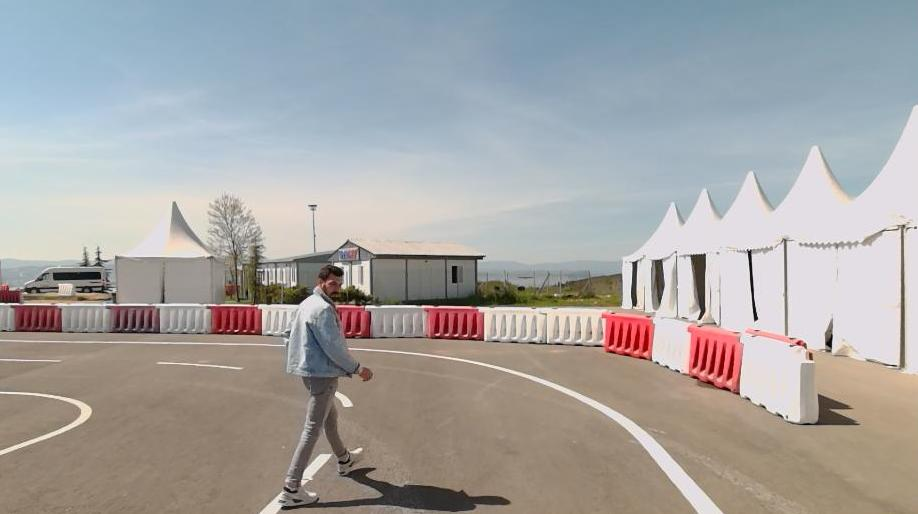nesne: (0, 263, 731, 512), (258, 342, 726, 513), (353, 345, 727, 512), (338, 304, 819, 424), (0, 356, 298, 512), (279, 261, 374, 513), (0, 301, 303, 337), (741, 337, 816, 424), (0, 388, 93, 456), (484, 309, 602, 343), (685, 325, 740, 394), (0, 336, 284, 347), (23, 265, 107, 294), (604, 314, 654, 358), (649, 320, 690, 371), (207, 301, 262, 333), (428, 307, 483, 339), (369, 305, 424, 335), (157, 302, 210, 333), (151, 357, 246, 372), (110, 305, 158, 332), (60, 303, 109, 329), (14, 305, 60, 330), (265, 305, 302, 333), (336, 307, 369, 338), (304, 452, 329, 482), (260, 492, 284, 513), (0, 356, 56, 364), (332, 388, 355, 406), (0, 303, 12, 331)
